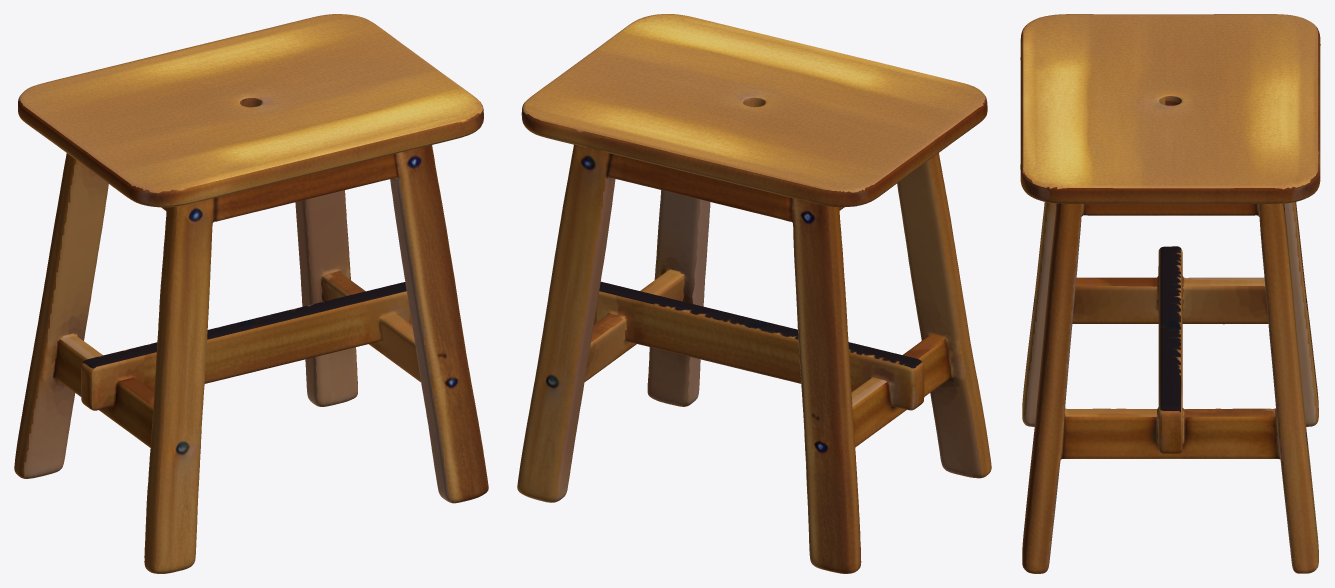
Rendered from stool__stool#3.glb.
3 views of the same model, side by side, from view 1: azimuth 30°, elevation 25°; view 2: azimuth 150°, elevation 25°; view 3: azimuth 270°, elevation 25° (orthographic). The views are drawn at different scales.
Visible parts, largest first — view 1: tmp2hkopvms.ply; view 2: tmp2hkopvms.ply; view 3: tmp2hkopvms.ply.
Boxes of the visible parts, box(x1,y1,x2,y2) form: tmp2hkopvms.ply: box(14, 14, 488, 573); tmp2hkopvms.ply: box(517, 14, 991, 573); tmp2hkopvms.ply: box(1020, 14, 1320, 573).
Size of the model in its own units: 1.91 by 1.99 by 1.38.
Materials: 1 (1 with a texture image).
